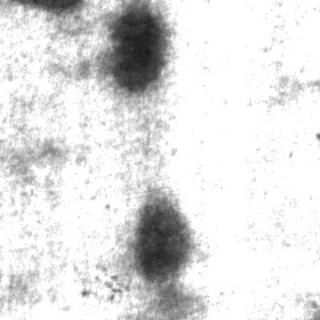patches: (96, 1, 168, 90), (127, 199, 189, 283)
